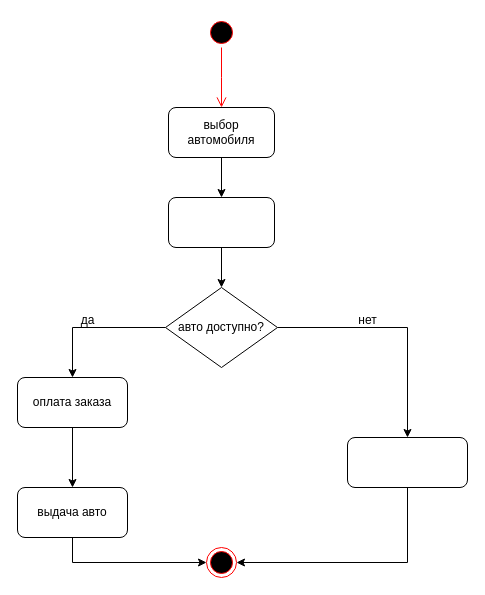
The diagram is 485 pixels wide and 595 high, and some of its shapes have lost their labels. The shapes that lost their labels are listed below. From the top down, each one's centre as x and y in pixels, then its label:
[221,222]: оформление заказа
[407,462]: вывести сообщение об недоступности авто
